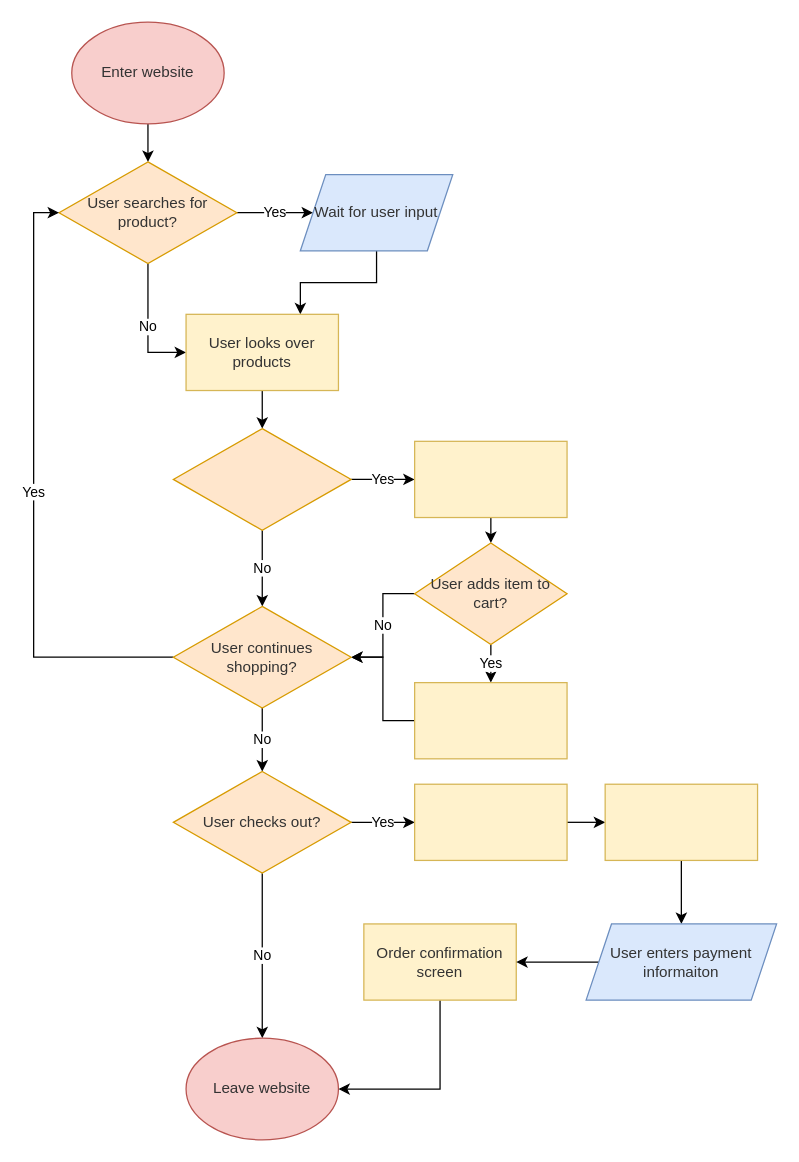
This 799x1162 diagram has some shape labels left out. Each missing label, with the box of its shape:
Added to cart confirmation: (413, 681, 567, 759)
Open product's webpage: (413, 440, 567, 518)
User views specific product?: (172, 427, 351, 530)
View cart screen: (413, 783, 567, 860)
View payment screen: (604, 783, 758, 860)
